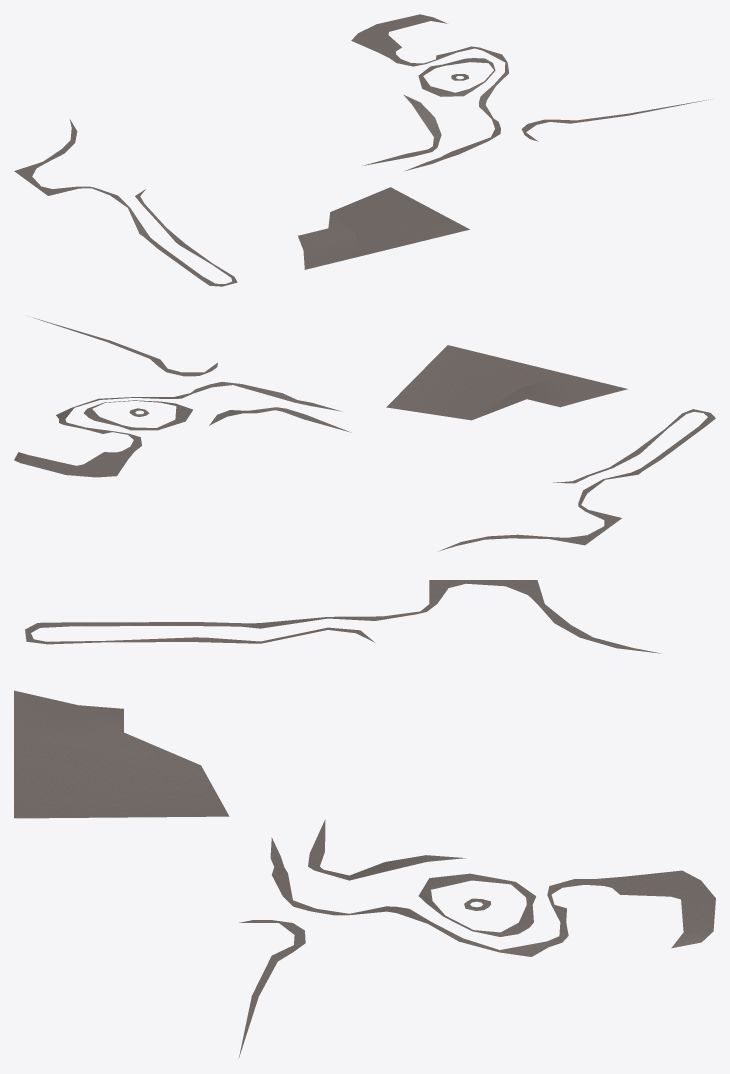
Rendered from kd_stage_135ded_4_122_exterior.glb.
3 renders of one model, top to bottom at view 1: azimuth 30°, elevation 25°; view 2: azimuth 150°, elevation 25°; view 3: azimuth 270°, elevation 25°, orthographic. The views are drawn at different scales.
Parts seen in each view (by area): view 1: kd_stage_135ded_4_122_exterior; view 2: kd_stage_135ded_4_122_exterior; view 3: kd_stage_135ded_4_122_exterior.
Part boxes in pixels (<box>): kd_stage_135ded_4_122_exterior: <box>14,14,710,286</box>; kd_stage_135ded_4_122_exterior: <box>14,317,715,551</box>; kd_stage_135ded_4_122_exterior: <box>14,580,715,1058</box>.
Bounding box in the file's own units: 16.65 × 0.4709 × 10.52.
1 material, 1 textured.
